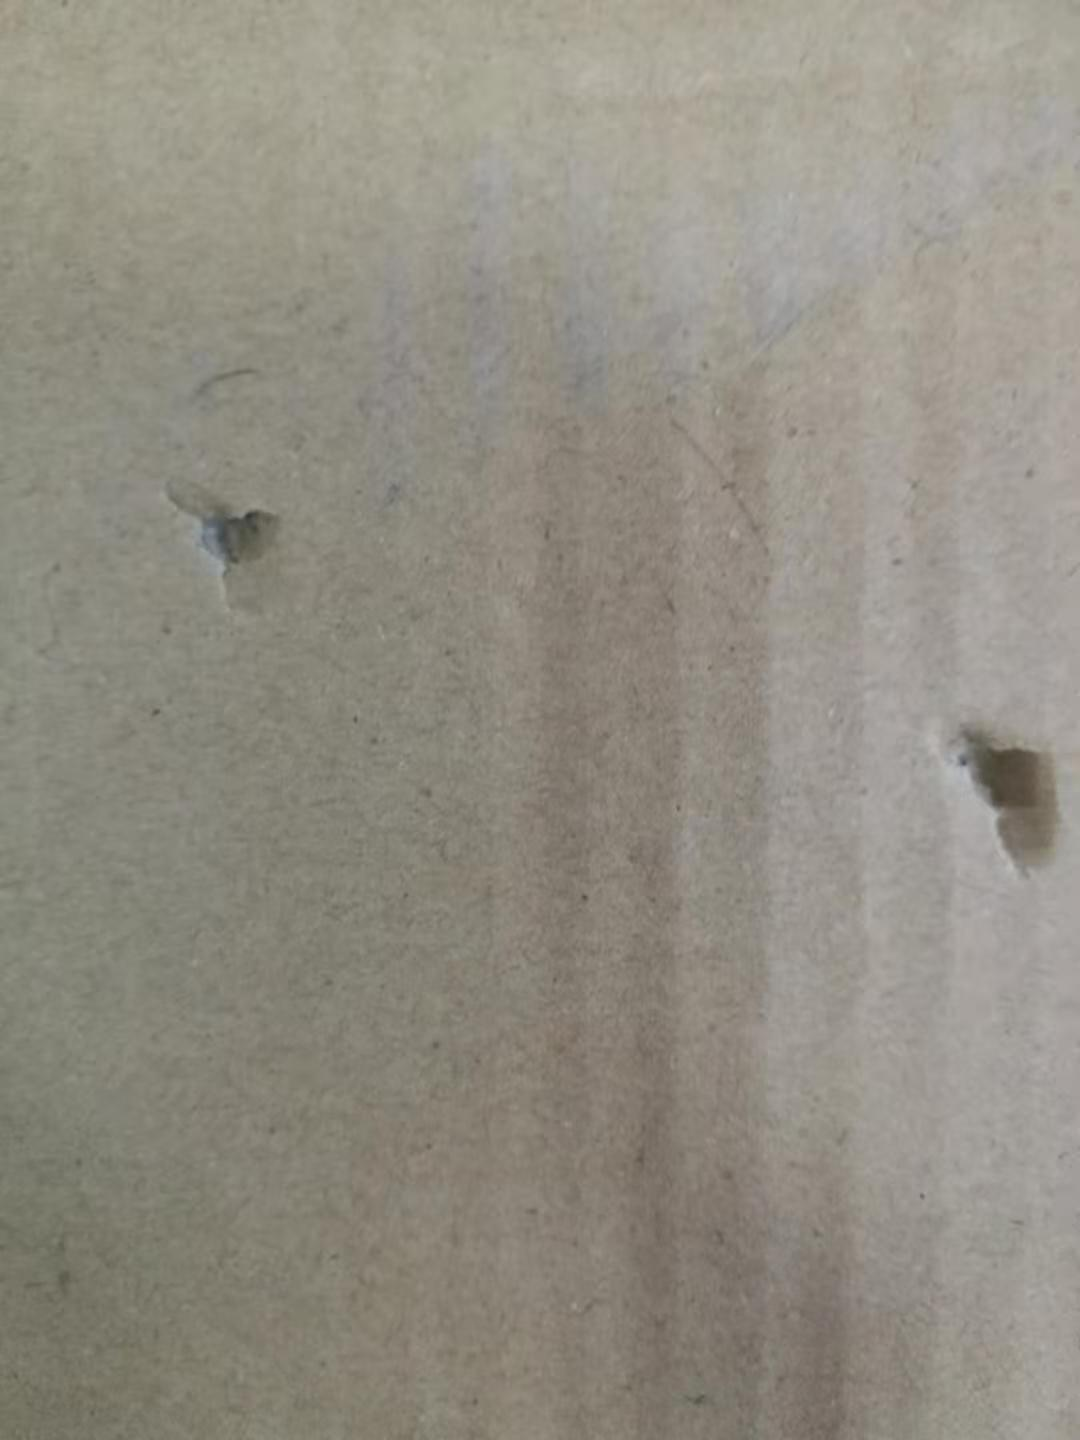defect: (128, 342, 331, 632), (914, 684, 1080, 903)
